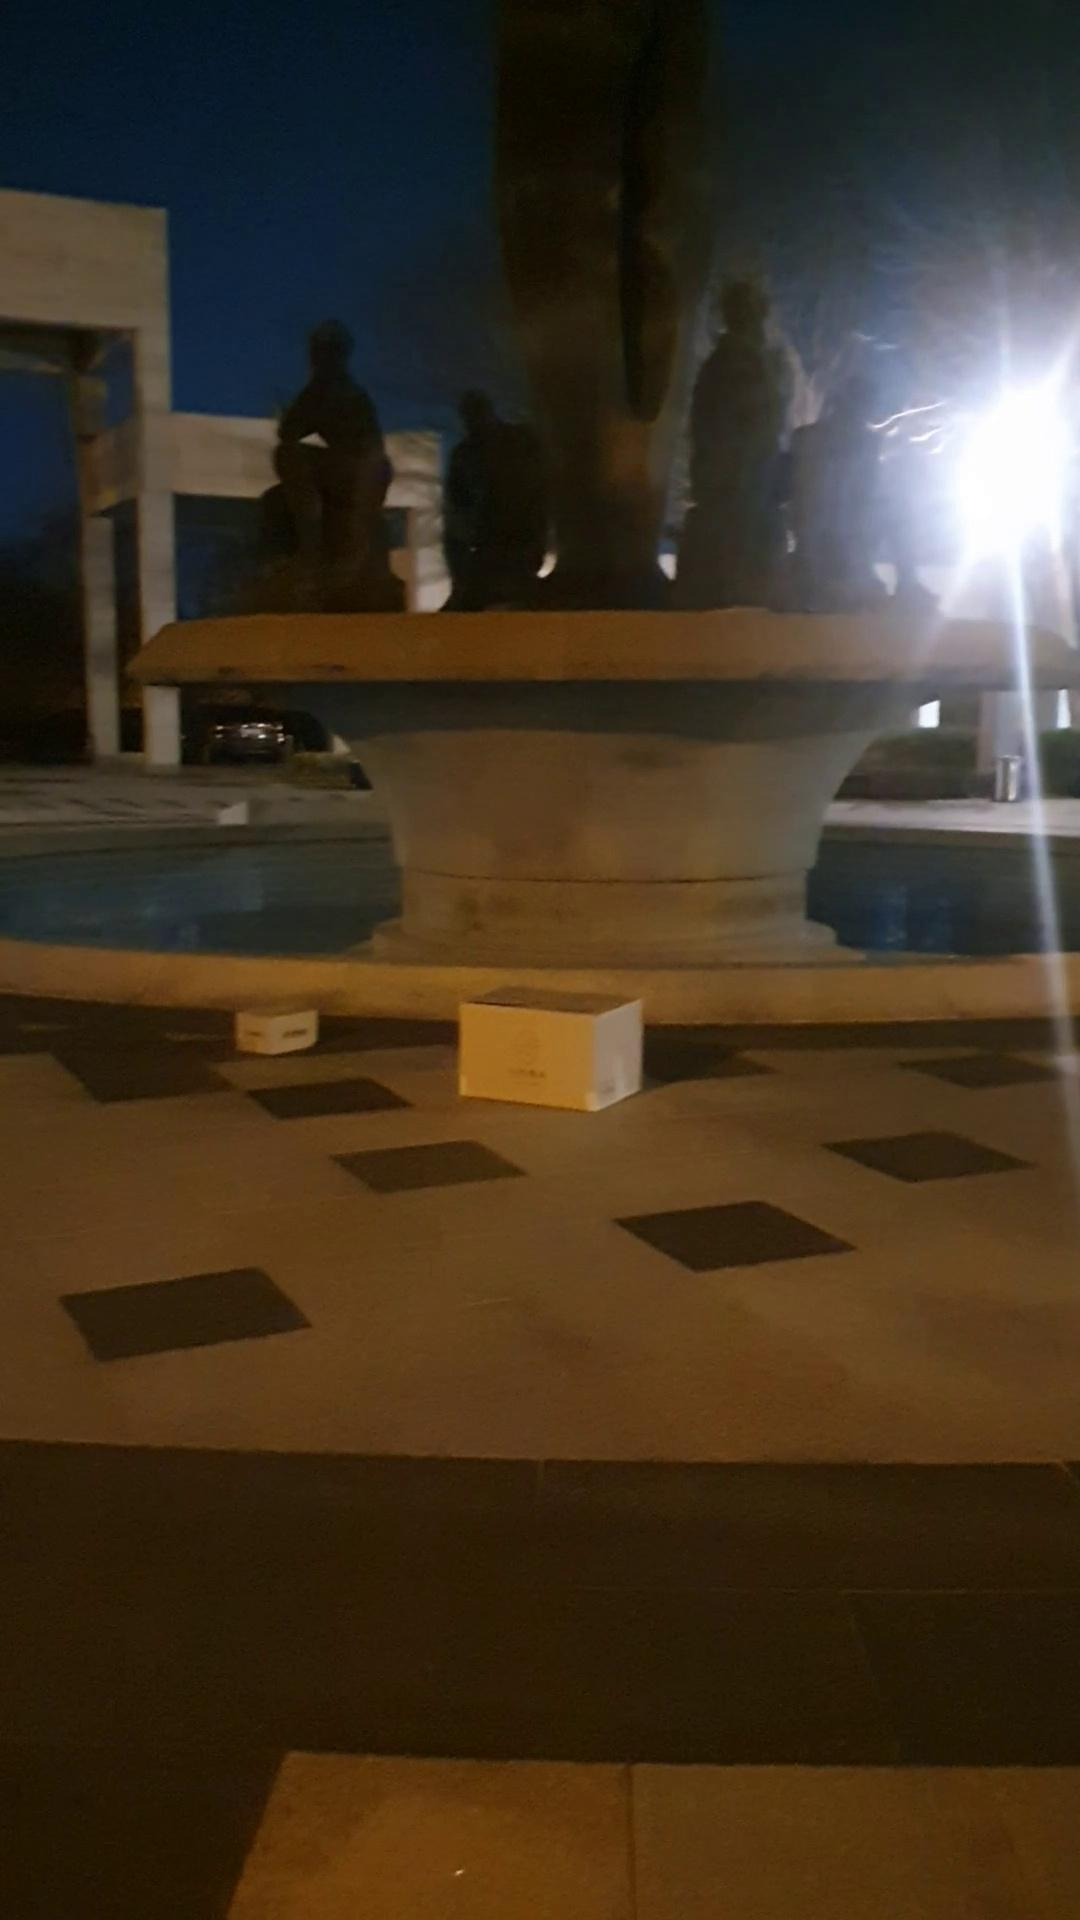Box: (440, 975, 647, 1122), (228, 988, 332, 1058)
